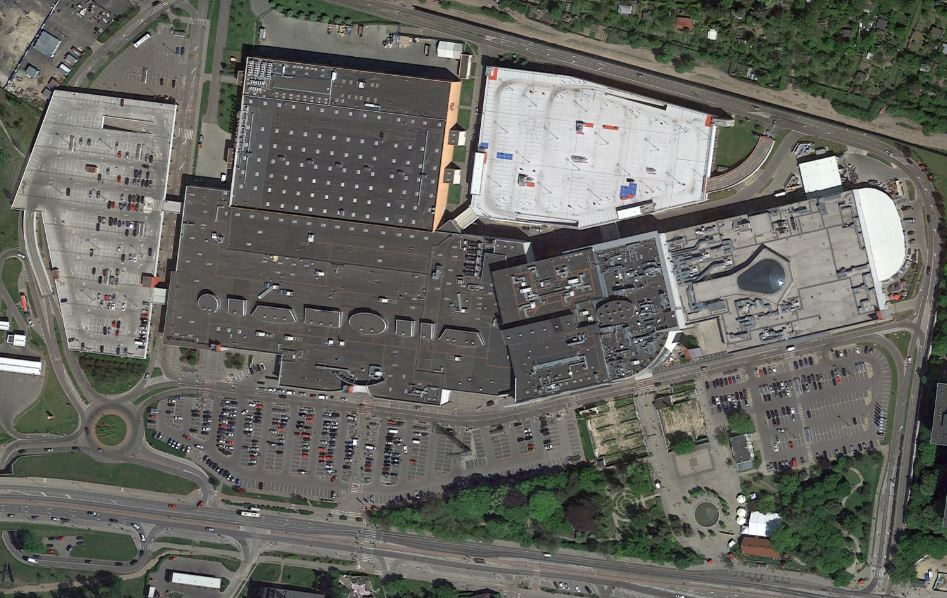shopping_center: (148, 48, 902, 417)
